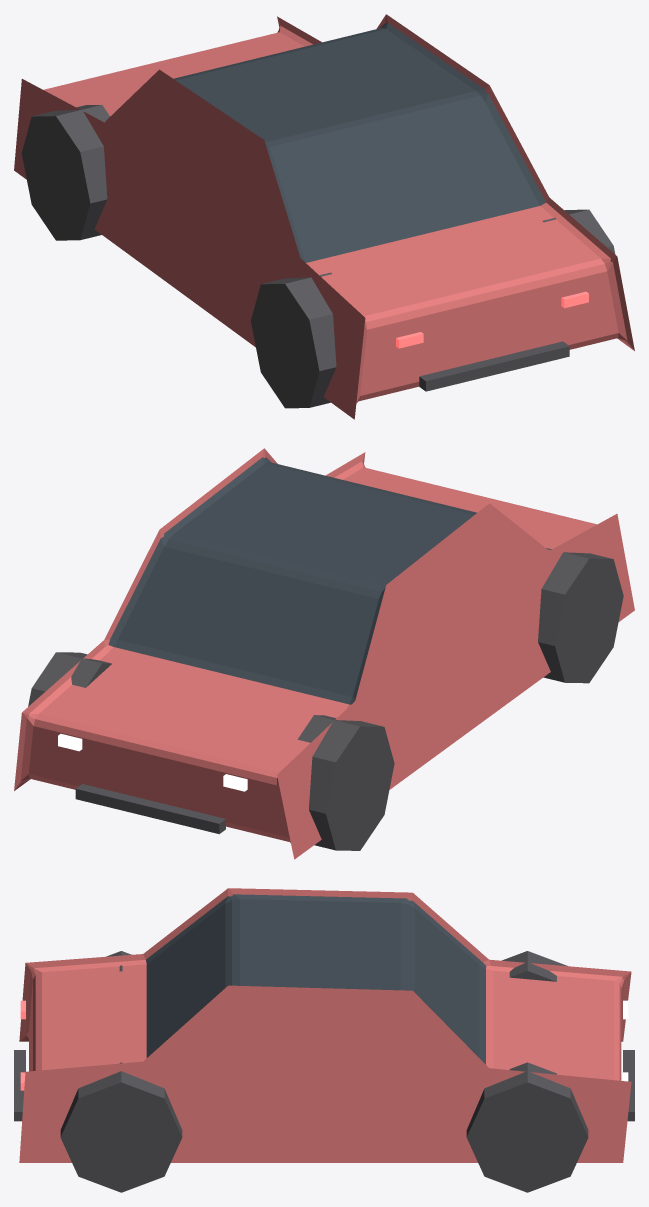
The model's file is car_3_classic.glb.
3 renders of one model, top to bottom at view 1: azimuth 30°, elevation 25°; view 2: azimuth 150°, elevation 25°; view 3: azimuth 270°, elevation 25°, orthographic. The views are drawn at different scales.
Visible parts, largest first — view 1: car_3_classic_body, Arch, Arch.002, BumperR, Arch.003; view 2: car_3_classic_body, Arch, Arch.002, BumperF, Arch.001; view 3: car_3_classic_body, Arch.001, Arch.003, Arch, BumperR, BumperF.
Boxes of the visible parts, x1=… form: car_3_classic_body: x1=14, y1=14, x2=634, y2=419; Arch: x1=21, y1=105, x2=109, y2=240; Arch.002: x1=251, y1=272, x2=336, y2=408; BumperR: x1=419, y1=341, x2=569, y2=391; Arch.003: x1=543, y1=209, x2=615, y2=253; car_3_classic_body: x1=14, y1=448, x2=634, y2=859; Arch: x1=297, y1=715, x2=394, y2=850; Arch.002: x1=538, y1=548, x2=623, y2=683; BumperF: x1=75, y1=784, x2=225, y2=834; Arch.001: x1=28, y1=652, x2=111, y2=706; car_3_classic_body: x1=19, y1=888, x2=631, y2=1162; Arch.001: x1=466, y1=1062, x2=588, y2=1192; Arch.003: x1=60, y1=1062, x2=182, y2=1192; Arch: x1=502, y1=951, x2=567, y2=981; BumperR: x1=14, y1=1050, x2=25, y2=1121; BumperF: x1=623, y1=1050, x2=634, y2=1121.
Bounding box in the file's own units: 1.84 × 1.24 × 3.67.
